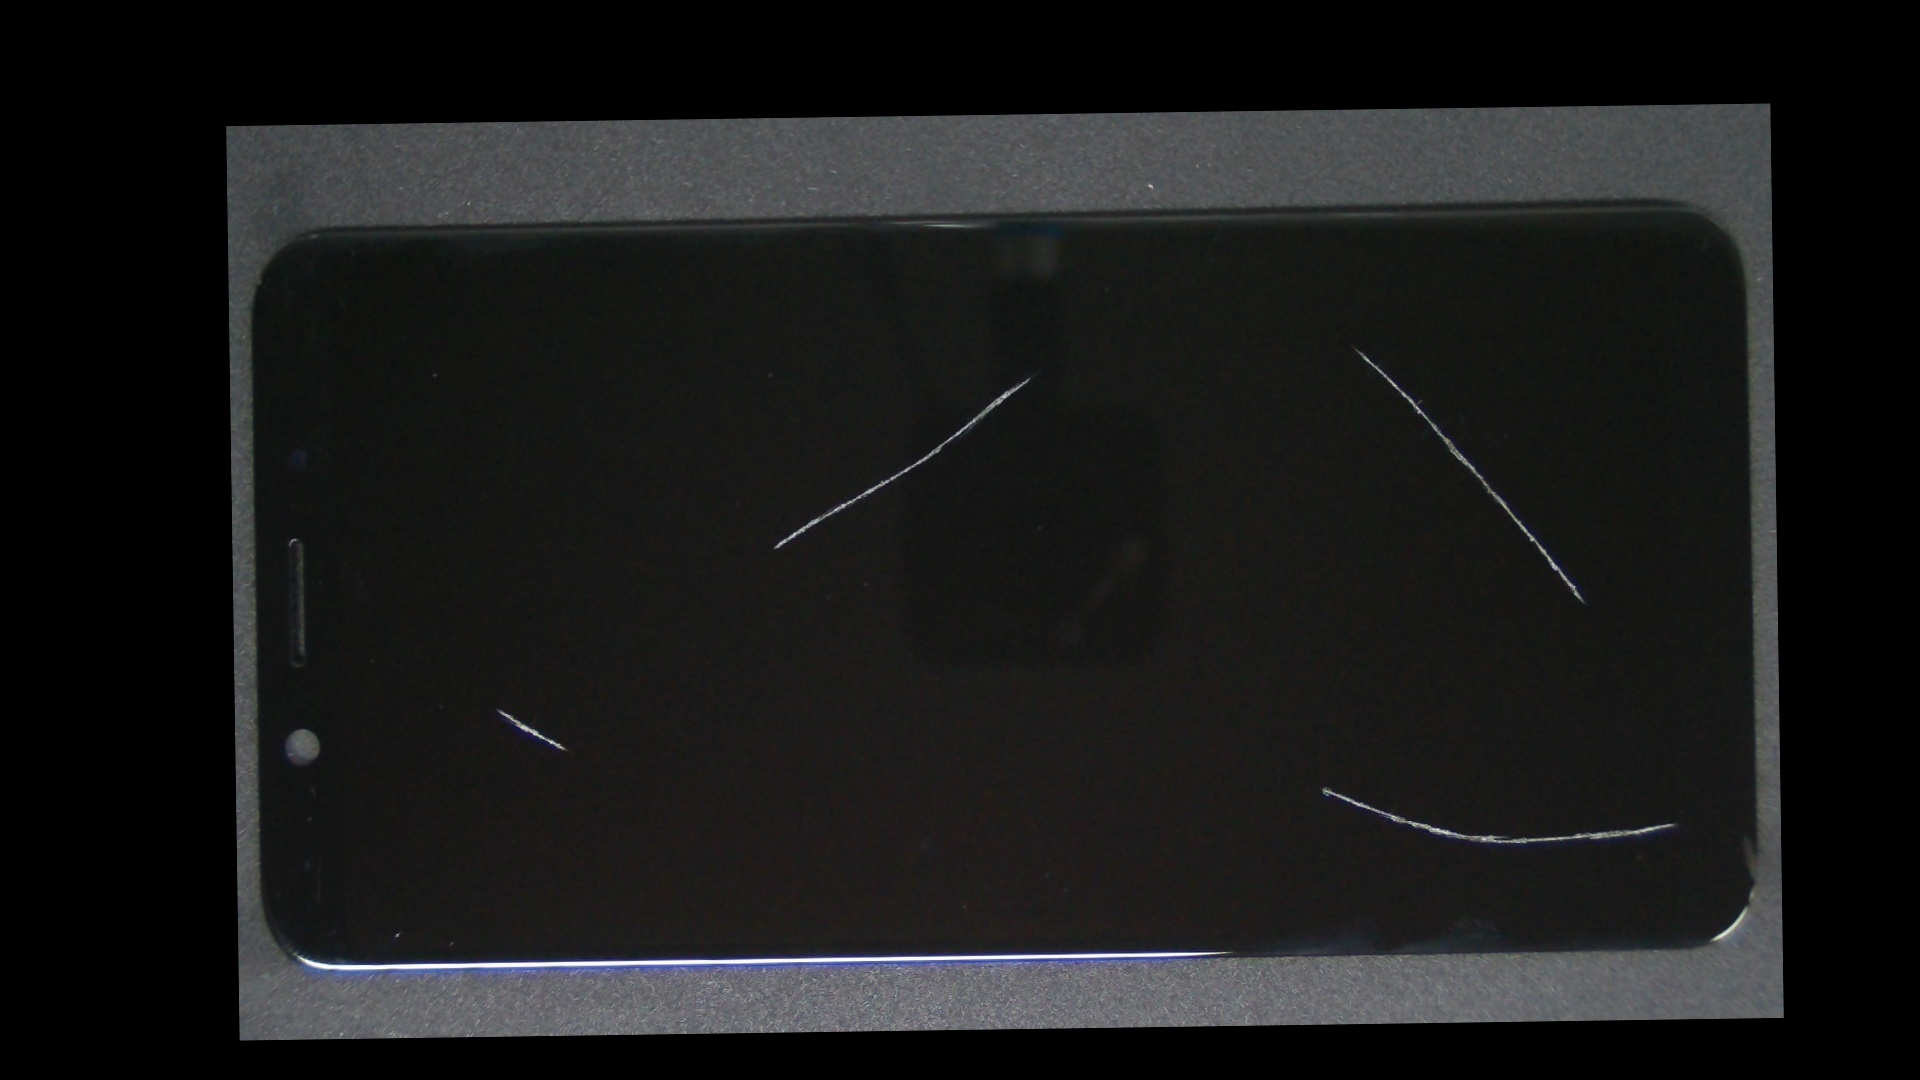oil: (777, 442, 1784, 1033), (791, 223, 1775, 476), (629, 239, 1433, 513), (361, 413, 632, 1005)
